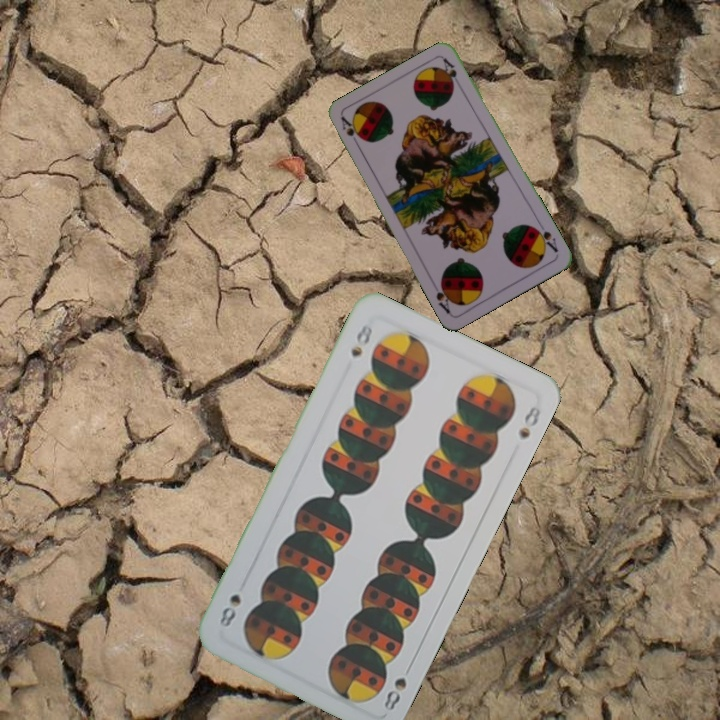S8: (380, 659, 416, 714), (346, 319, 375, 360)
SA: (337, 113, 364, 151), (530, 222, 561, 255)
